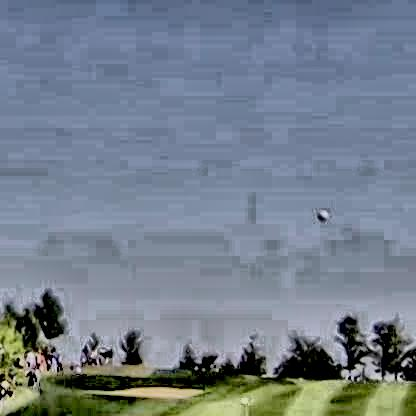golfball: (314, 207, 325, 217)
